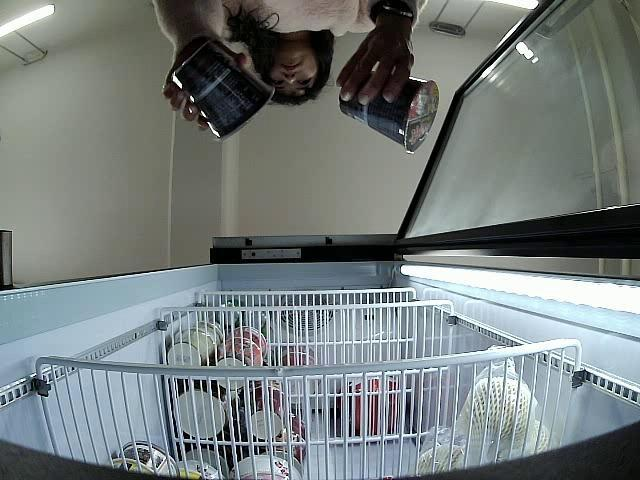08_buldak_S: (170, 43, 272, 144), (340, 71, 439, 155)
